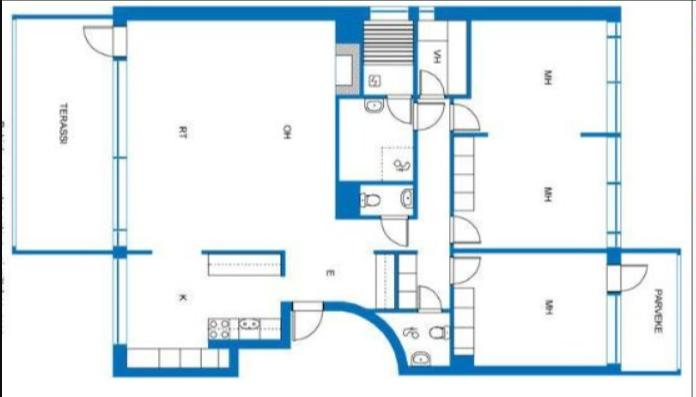door: (80, 22, 130, 60), (604, 260, 650, 296), (291, 299, 327, 342), (377, 212, 412, 250), (448, 211, 484, 245), (448, 254, 484, 286), (449, 99, 482, 132), (412, 100, 447, 130), (415, 283, 446, 316), (387, 91, 414, 127), (416, 70, 448, 100)
window: (110, 56, 129, 158), (109, 254, 129, 350), (605, 290, 624, 368), (110, 154, 129, 232), (603, 81, 625, 136), (604, 181, 624, 235), (603, 132, 623, 185), (602, 34, 623, 84), (364, 3, 413, 22), (603, 16, 625, 39), (110, 227, 130, 250), (602, 230, 624, 250), (415, 3, 438, 21)
